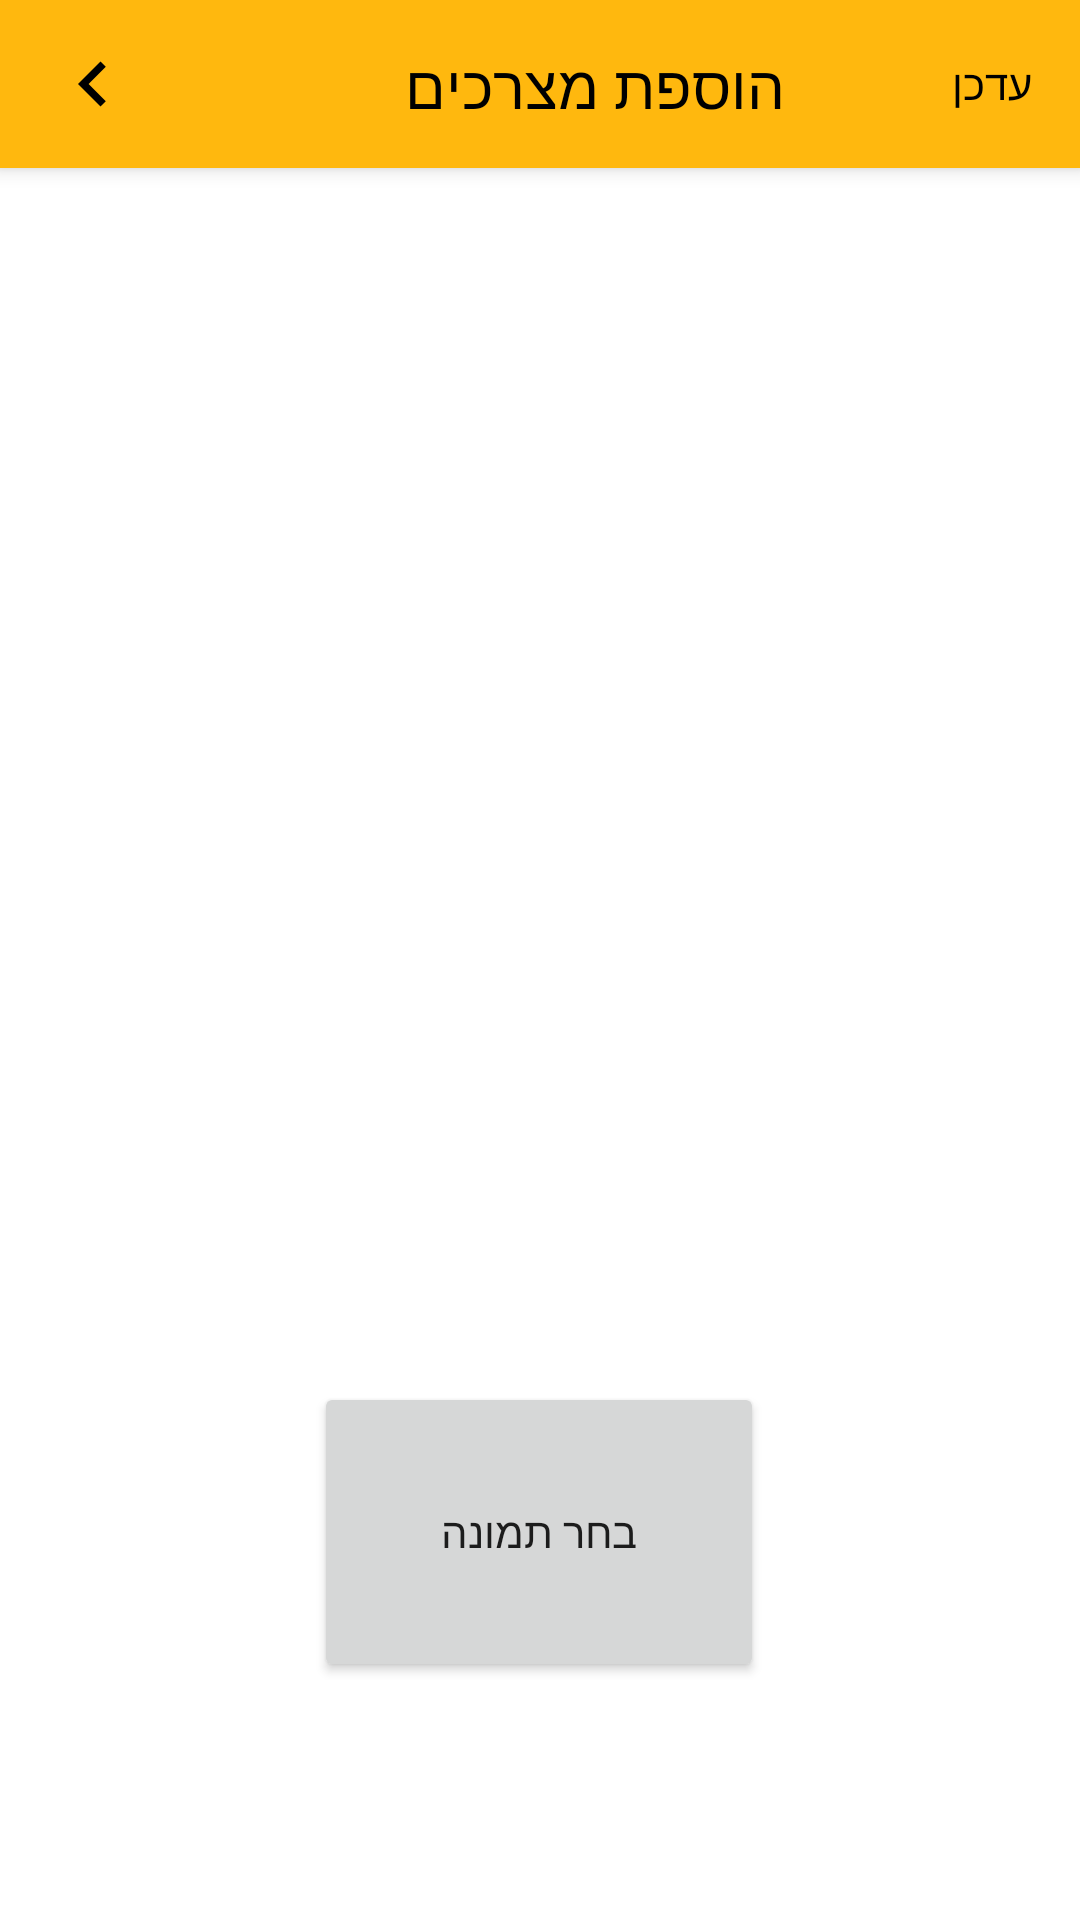

Icon click points for this 1080 × 1920 phone screenshot, format (x=x, y=y):
chevron left: (x=92, y=84)
